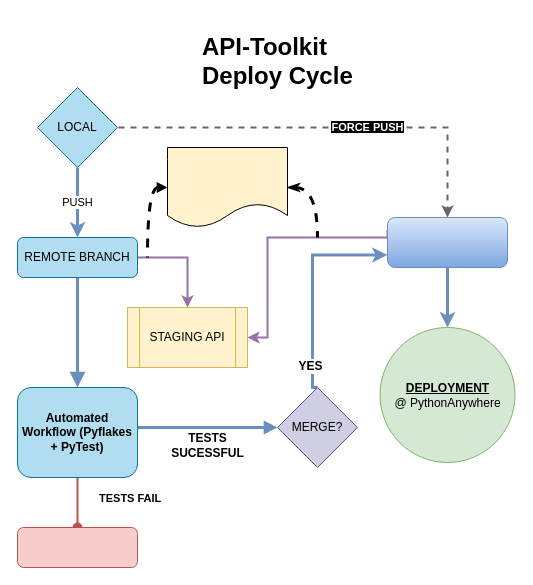
Image size: 533x585. Some labels were removed from this diagram. Each missing label, with the centre of its shape:
CANNOT MERGE!: [77,547]
MASTER: [447,242]
VIA GitHub Webhooks & API Endpoint: [227,187]
